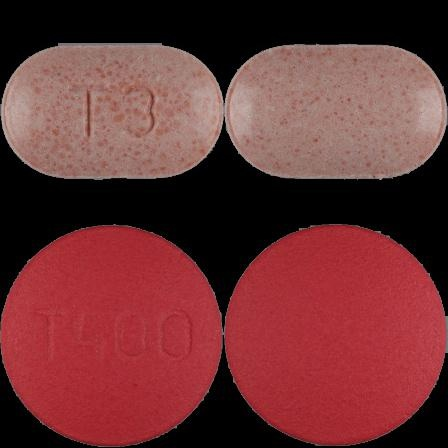51672-4046: (0, 0, 224, 224)
